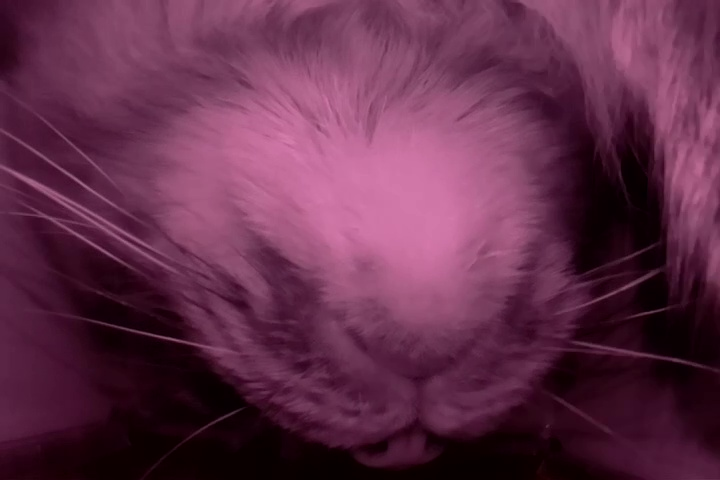Snout: (298, 267, 554, 469)
